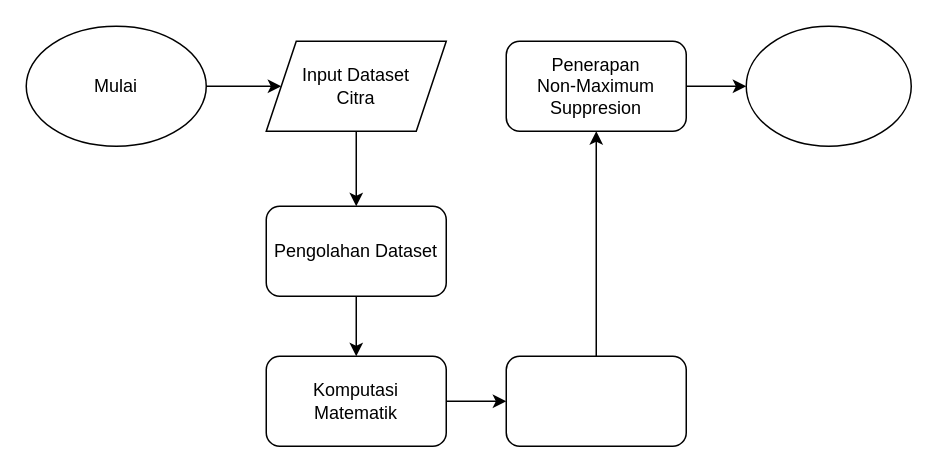
Some shapes in this 938 by 473 pixel diagram are drawn without their labels. Here are the shapes that lost their labels. From the top down, the centre of each, then its label:
At (x=828, y=85): "Selesai".
At (x=595, y=400): "Mengidentifikasi Sudut".
